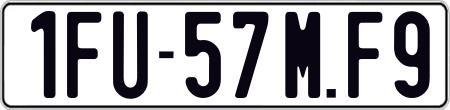1: (29, 10, 59, 98)
5: (183, 10, 225, 96)
7: (230, 9, 267, 97)
9: (393, 8, 432, 97)
F: (346, 10, 386, 97), (67, 9, 103, 97)
M: (282, 11, 317, 98)
U: (111, 10, 151, 103)
